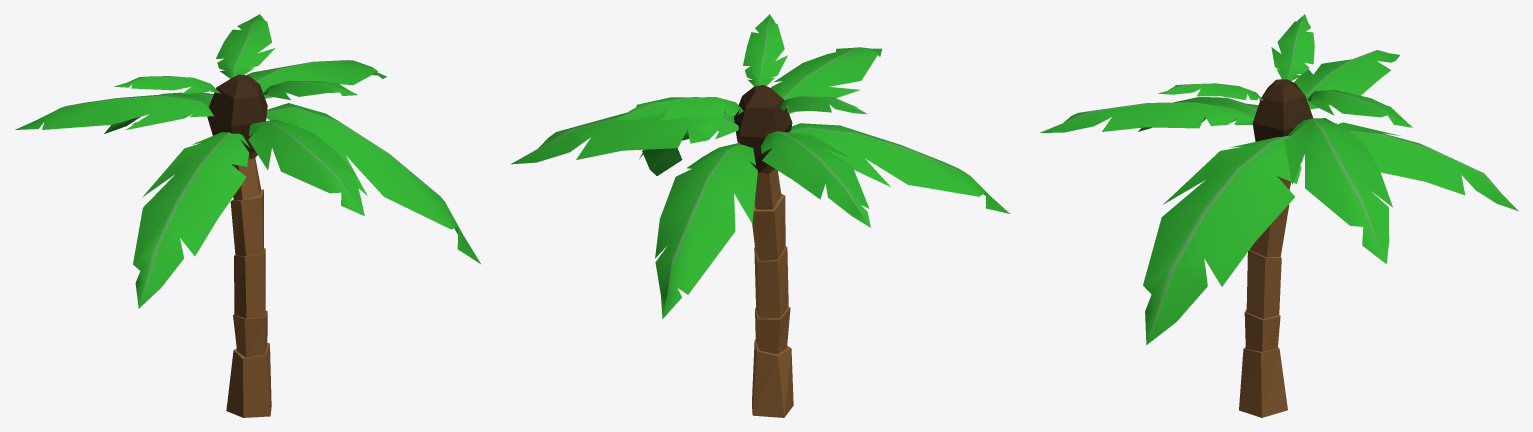
File: Palm_Garden.FBX
3 renders of one model, left to right at view 1: azimuth 30°, elevation 25°; view 2: azimuth 150°, elevation 25°; view 3: azimuth 270°, elevation 25°, orthographic.
Visible parts, largest first — view 1: Big Leafs, MiddleLeafs, Cylinder001, LittleLeafs; view 2: Big Leafs, MiddleLeafs, Cylinder001, LittleLeafs; view 3: Big Leafs, MiddleLeafs, Cylinder001, LittleLeafs.
Part boxes in pixels (<box>): Big Leafs: <box>104,92,480,308</box>; MiddleLeafs: <box>15,60,386,215</box>; Cylinder001: <box>207,74,271,417</box>; LittleLeafs: <box>114,14,357,99</box>; Big Leafs: <box>639,109,1009,318</box>; MiddleLeafs: <box>511,47,881,227</box>; Cylinder001: <box>734,85,793,417</box>; LittleLeafs: <box>612,14,867,120</box>; Big Leafs: <box>1138,97,1518,344</box>; MiddleLeafs: <box>1040,50,1399,263</box>; Cylinder001: <box>1239,79,1312,417</box>; LittleLeafs: <box>1158,14,1412,127</box>.
Size of the model in its own units: 122 by 107 by 136.
1 material, 1 textured.
